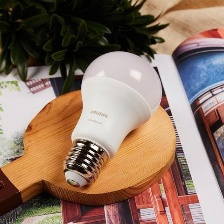light_bulb: (59, 46, 163, 193)
